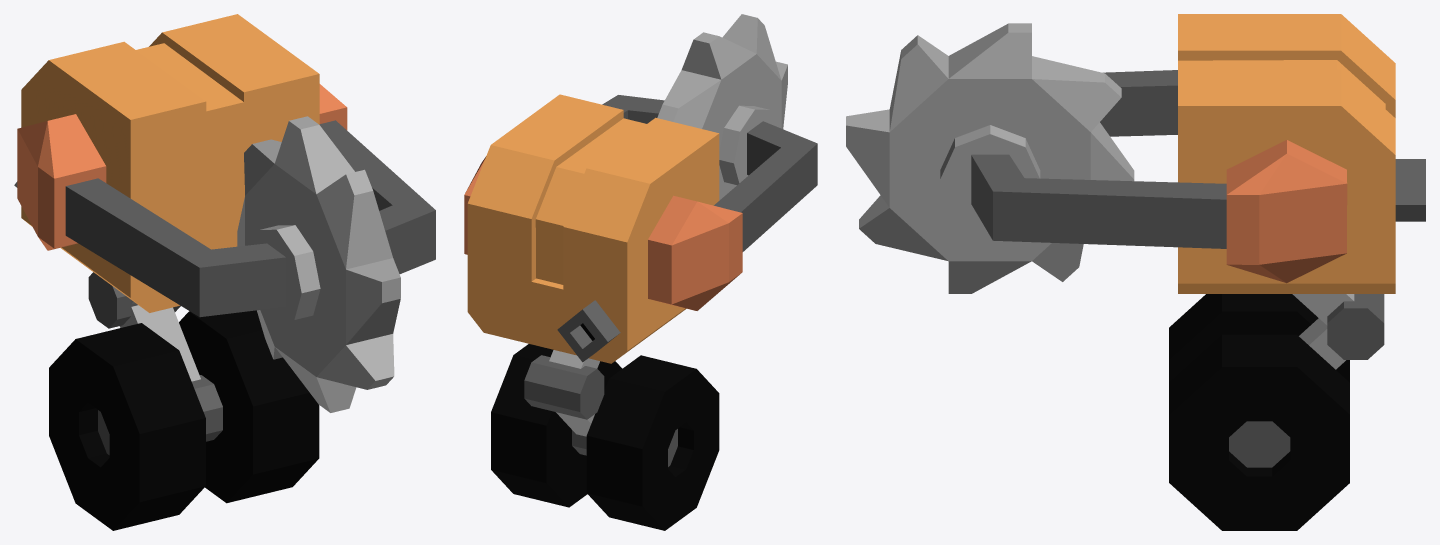
Rendered from PAF.fbx.
3 renders of one model, left to right at view 1: azimuth 30°, elevation 25°; view 2: azimuth 150°, elevation 25°; view 3: azimuth 270°, elevation 25°, orthographic. The views are drawn at different scales.
Parts seen in each view (by area): view 1: PAF_Wheels, PAF_Body, PAF_Sawblade, PAF_SawArms, PAF_CritSpot, PAF_Hinge; view 2: PAF_Body, PAF_Wheels, PAF_Sawblade, PAF_CritSpot, PAF_SawArms, PAF_Hinge, PAF_Exhaust; view 3: PAF_Sawblade, PAF_Body, PAF_Wheels, PAF_SawArms, PAF_CritSpot, PAF_Hinge, PAF_Exhaust.
Part boxes in pixels (x1,y1,x2,y2): PAF_Wheels: (49,310,319,530); PAF_Body: (21,14,319,312); PAF_Sawblade: (237,116,400,412); PAF_SawArms: (65,120,435,317); PAF_CritSpot: (17,84,347,250); PAF_Hinge: (88,272,200,381); PAF_Body: (467,94,719,363); PAF_Wheels: (491,344,719,530); PAF_Sawblade: (657,14,787,200); PAF_CritSpot: (464,156,742,310); PAF_SawArms: (602,95,817,251); PAF_Hinge: (524,350,604,436); PAF_Exhaust: (557,300,620,362); PAF_Sawblade: (846,23,1134,293); PAF_Body: (1178,14,1395,293); PAF_Wheels: (1169,294,1349,530); PAF_SawArms: (971,70,1226,248); PAF_CritSpot: (1226,140,1347,283); PAF_Hinge: (1292,294,1384,369); PAF_Exhaust: (1395,159,1425,221).
Bounding box in the file's own units: 310 × 466 × 533.
